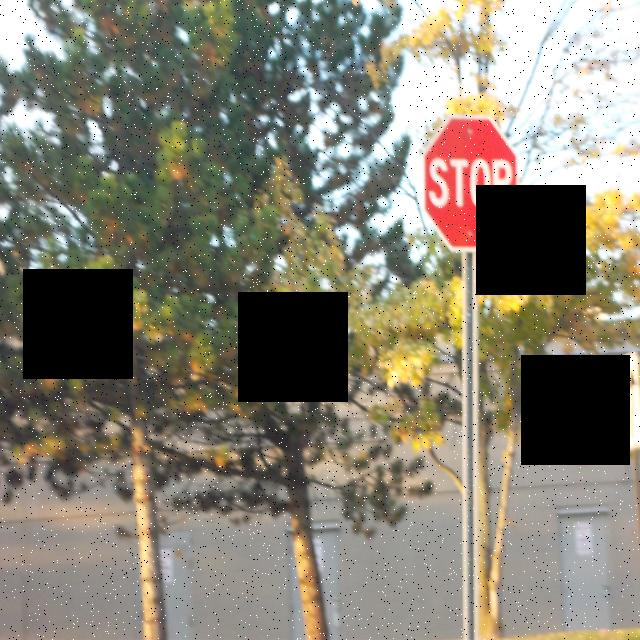stop: (425, 116, 517, 248)
